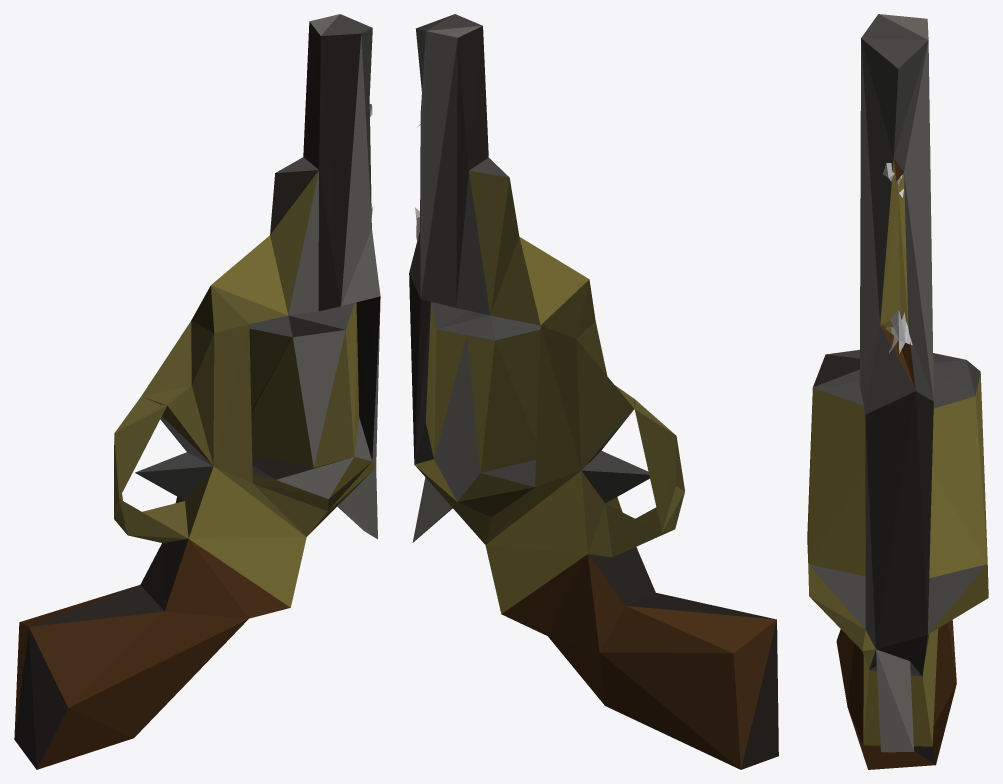
Rendered from aiwpn_revolver_lo.glb.
3 renders of one model, left to right at view 1: azimuth 30°, elevation 25°; view 2: azimuth 150°, elevation 25°; view 3: azimuth 270°, elevation 25°, orthographic. The views are drawn at different scales.
Parts seen in each view (by area): view 1: ca_aiwpn_revolver_lo; view 2: ca_aiwpn_revolver_lo; view 3: ca_aiwpn_revolver_lo.
Part boxes in pixels (x1,y1,x2,y2): ca_aiwpn_revolver_lo: (14,14,380,769); ca_aiwpn_revolver_lo: (409,14,778,769); ca_aiwpn_revolver_lo: (807,14,988,769).
Size of the model in its own units: 0.3435 by 0.6146 by 0.1135.
